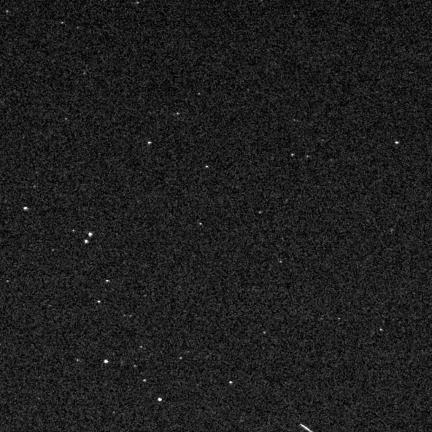blob: (158, 398, 162, 402), (88, 233, 92, 237), (104, 360, 108, 364), (24, 207, 28, 210), (106, 280, 110, 283), (84, 240, 88, 243), (98, 301, 102, 304), (229, 381, 232, 384), (148, 142, 151, 144)
